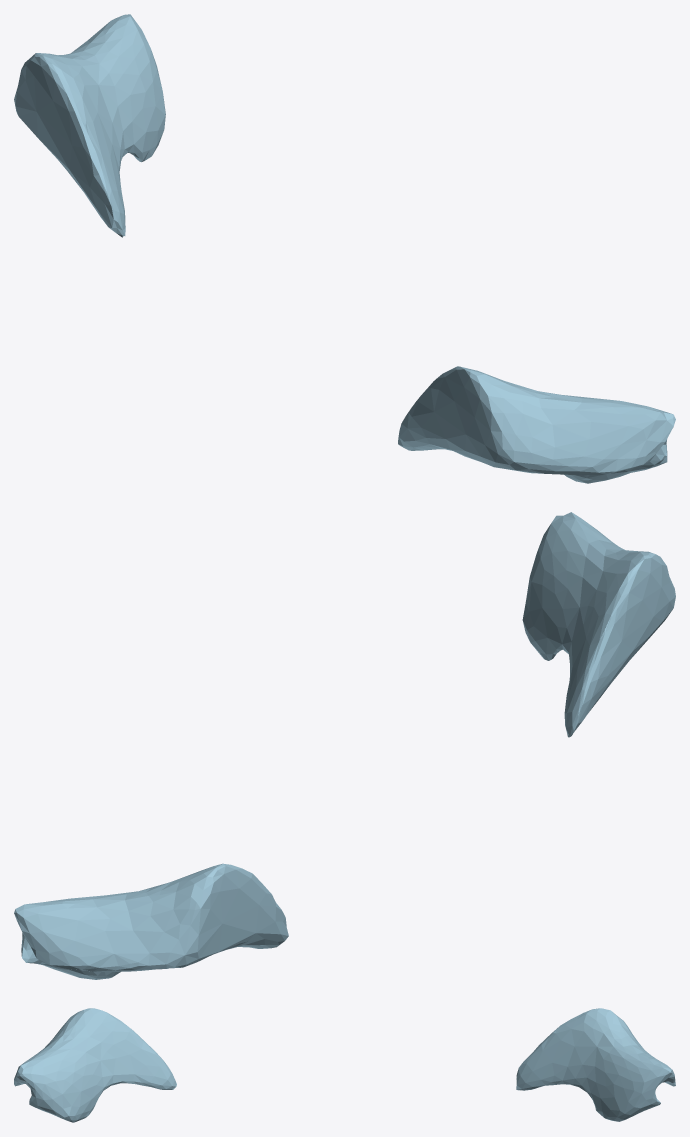
3 renders of one model, top to bottom at view 1: azimuth 30°, elevation 25°; view 2: azimuth 150°, elevation 25°; view 3: azimuth 270°, elevation 25°, orthographic. The views are drawn at different scales.
Visible parts, largest first — view 1: 998.obj; view 2: 998.obj; view 3: 998.obj.
Part boxes in pixels (x1=…): 998.obj: x1=14, y1=14, x2=675, y2=483; 998.obj: x1=14, y1=512, x2=675, y2=979; 998.obj: x1=14, y1=1008, x2=675, y2=1122.
Bounding box in the file's own units: 936 × 759 × 5709.
